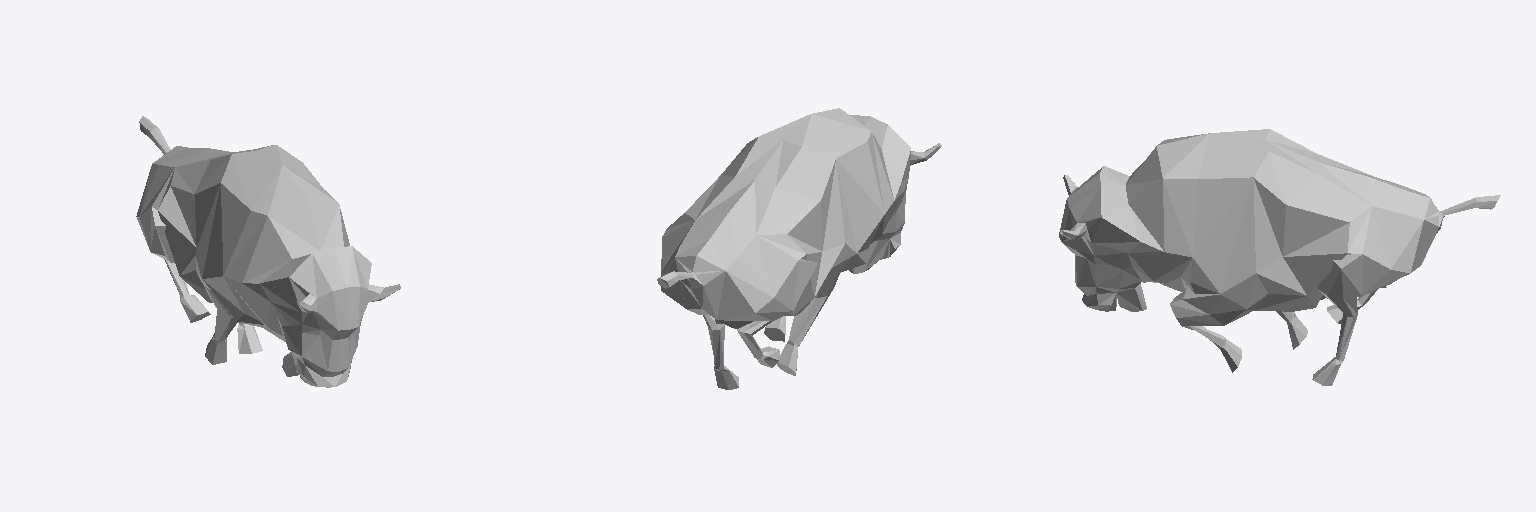
The model's file is bison_003.obj.
3 views of the same model, side by side, from view 1: azimuth 30°, elevation 25°; view 2: azimuth 150°, elevation 25°; view 3: azimuth 270°, elevation 25° (orthographic).
Parts seen in each view (by area): view 1: comp_bison_rig:bison_body comp_bison_rig:bison; view 2: comp_bison_rig:bison_body comp_bison_rig:bison; view 3: comp_bison_rig:bison_body comp_bison_rig:bison.
Boxes of the visible parts, <box> form: comp_bison_rig:bison_body comp_bison_rig:bison: <box>136,116,400,387</box>; comp_bison_rig:bison_body comp_bison_rig:bison: <box>657,108,941,389</box>; comp_bison_rig:bison_body comp_bison_rig:bison: <box>1059,129,1500,385</box>.
Bounding box in the file's own units: 124 × 187 × 316.